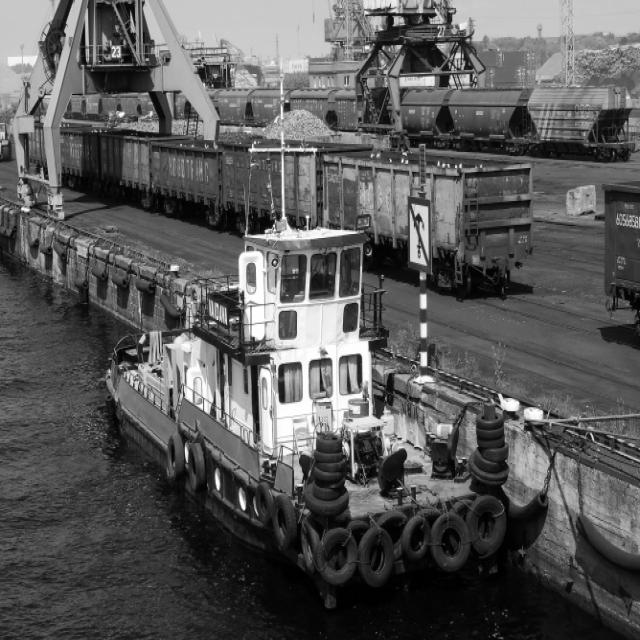tugboat: (101, 57, 512, 623)
